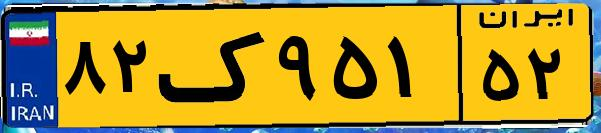1: (385, 28, 445, 110)
2: (525, 38, 570, 115), (110, 28, 158, 98)
5: (330, 28, 385, 110), (475, 38, 525, 113)
8: (57, 26, 110, 100)
9: (270, 28, 330, 110)
ک: (158, 12, 270, 120)
